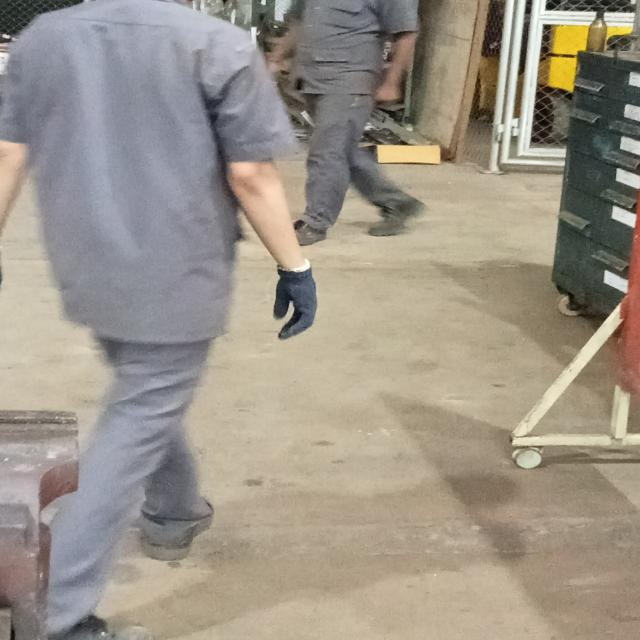Gloves-Detection: (266, 268, 332, 340)
